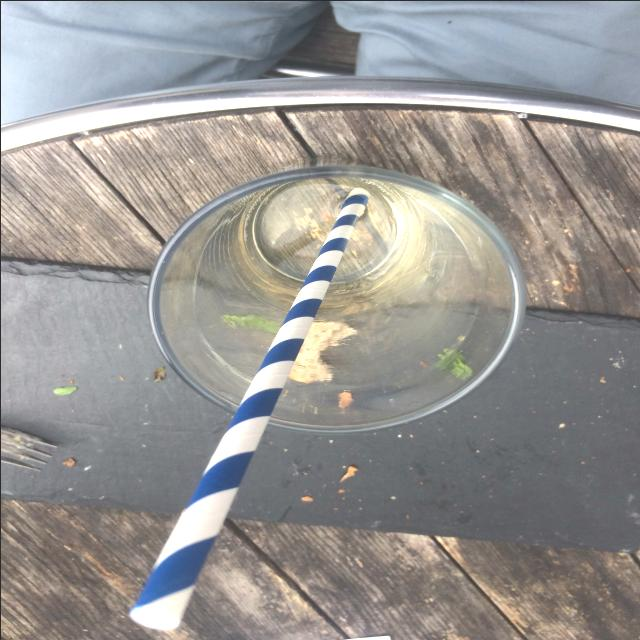Glass cup: (147, 164, 525, 433)
Paper straw: (130, 187, 368, 628)
